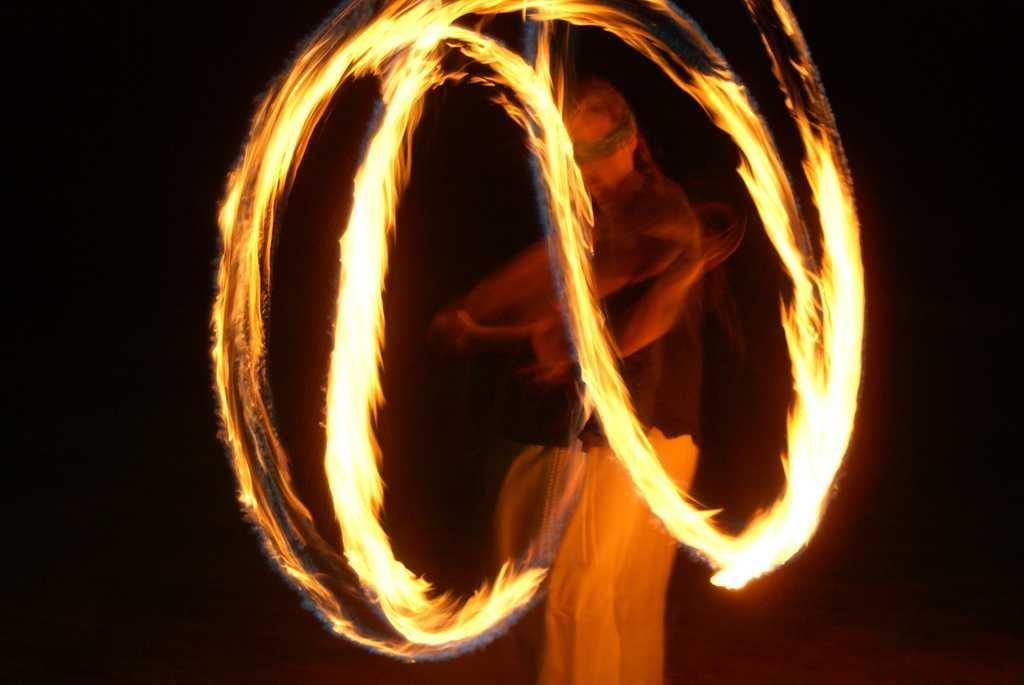fire: (327, 247, 387, 510), (795, 297, 842, 505)
